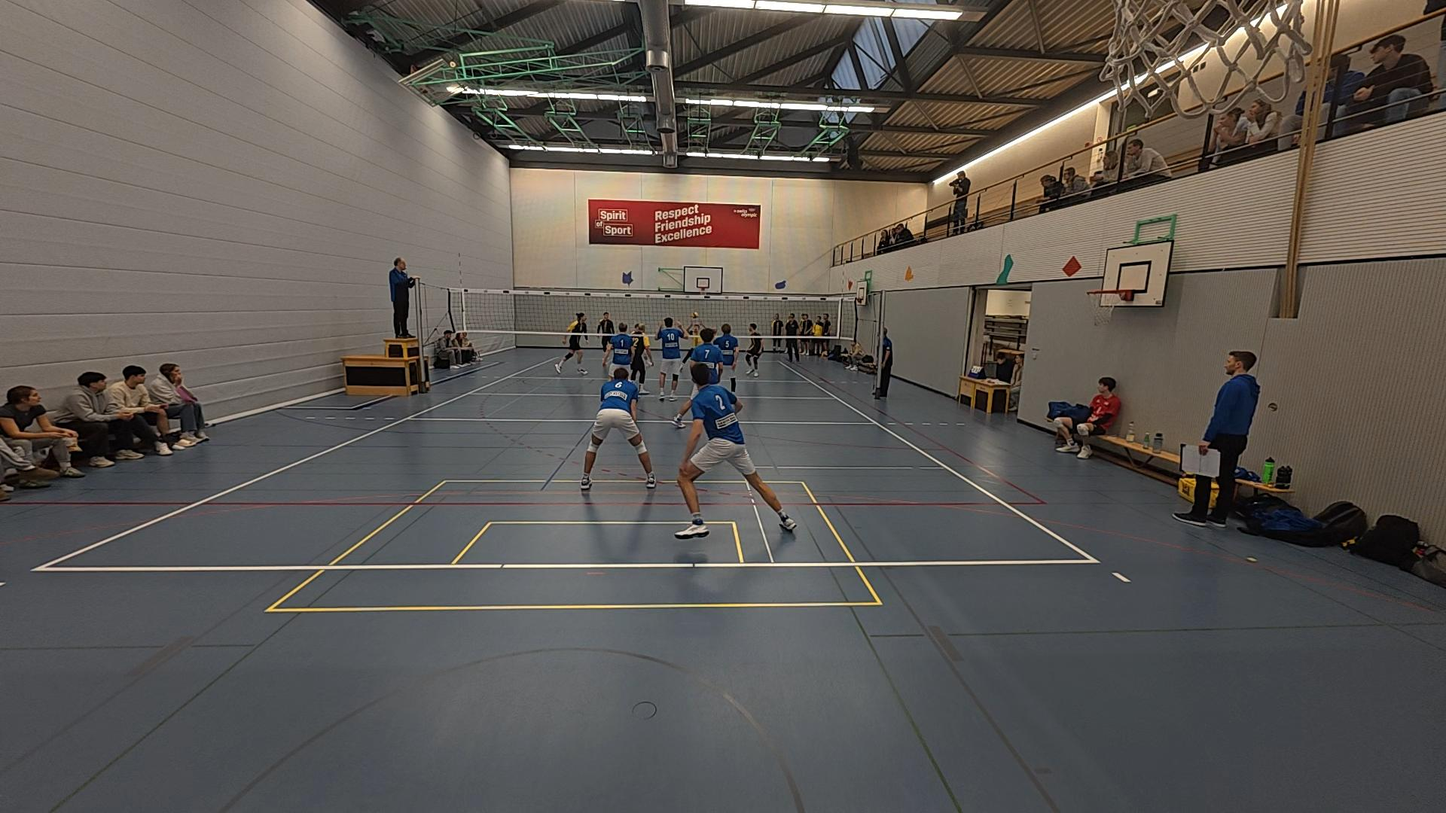Player: (673, 361, 795, 538), (581, 367, 659, 491), (675, 327, 728, 427), (599, 316, 641, 399), (651, 315, 686, 400), (621, 321, 652, 394), (713, 321, 745, 389), (555, 311, 589, 374), (739, 321, 764, 382), (596, 311, 619, 370)
Receive: (678, 312, 706, 372)
ball: (901, 265, 916, 280), (690, 312, 699, 319)
